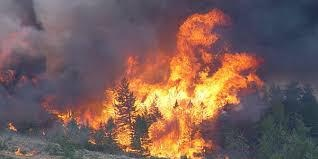fire: (15, 6, 293, 159), (5, 120, 17, 132)
